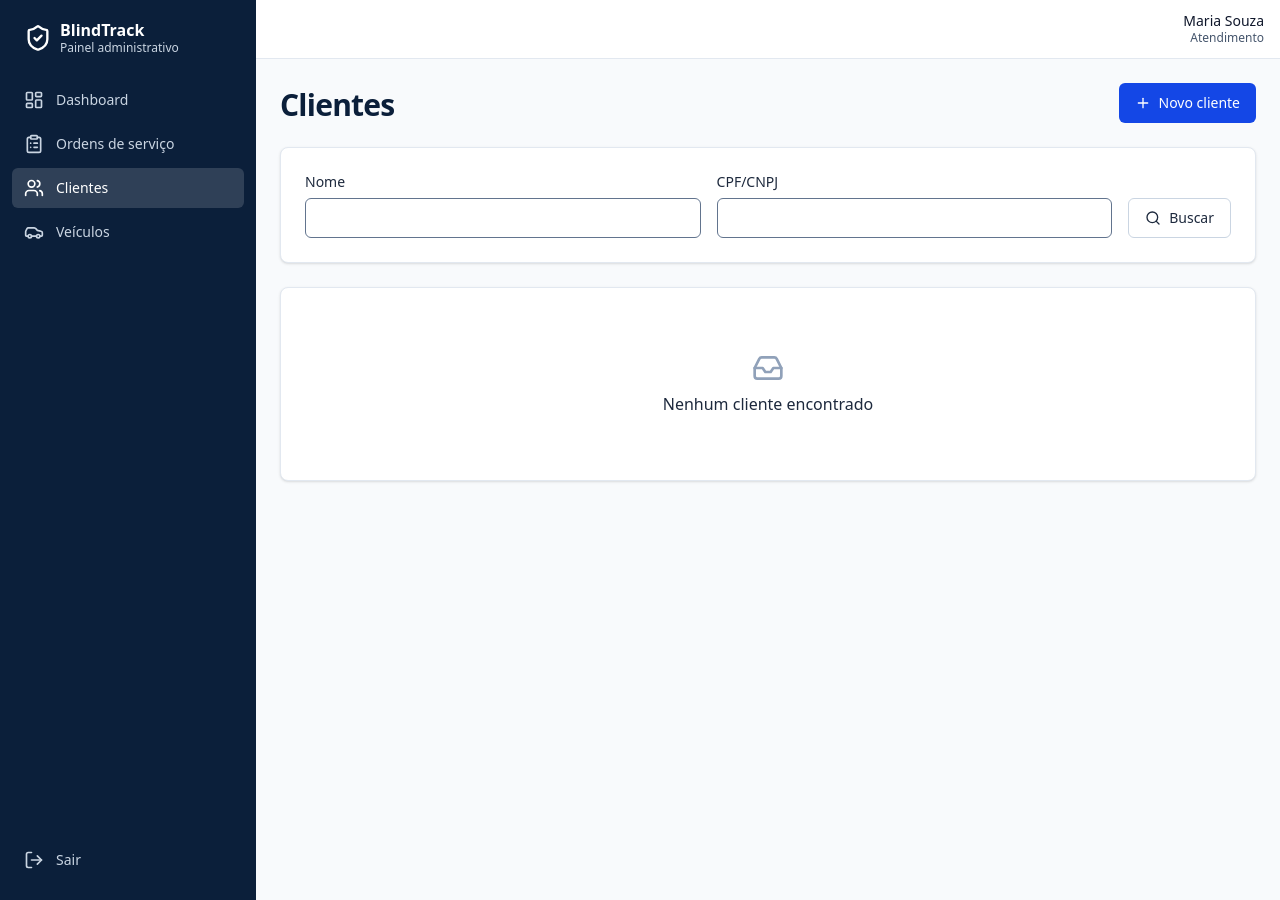
Clientes › CPF duplicado (409 da API) aparece no formulário
The image size is (1280, 900).
Click the button "Novo cliente" at (1187, 102), box [1118,82,1256,122]
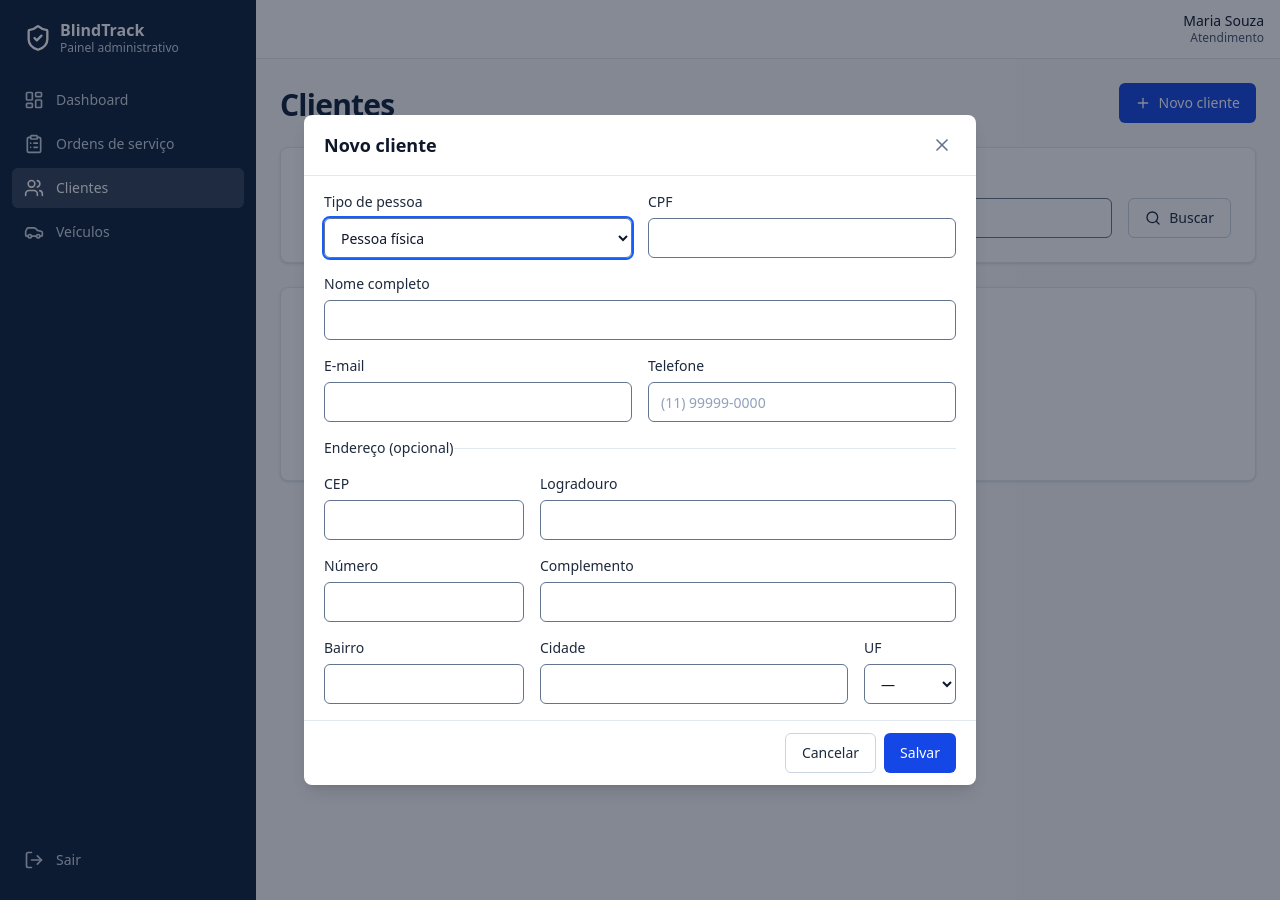
Type "52998224725" into the field labelled "CPF" at (802, 238), box [648,218,956,258]
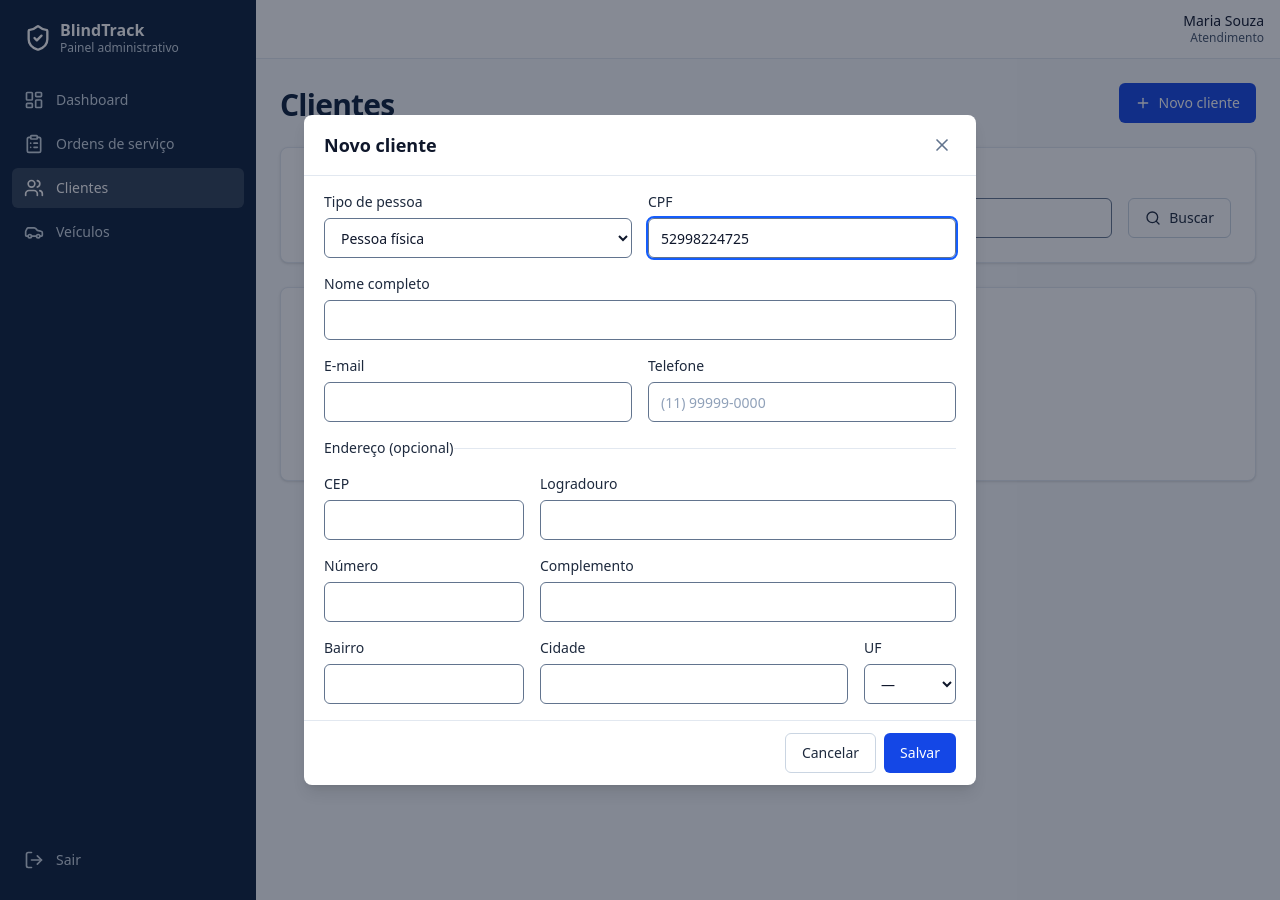
Type "Maria Souza" into the field labelled "Nome completo" at (640, 320), box [324,300,956,340]
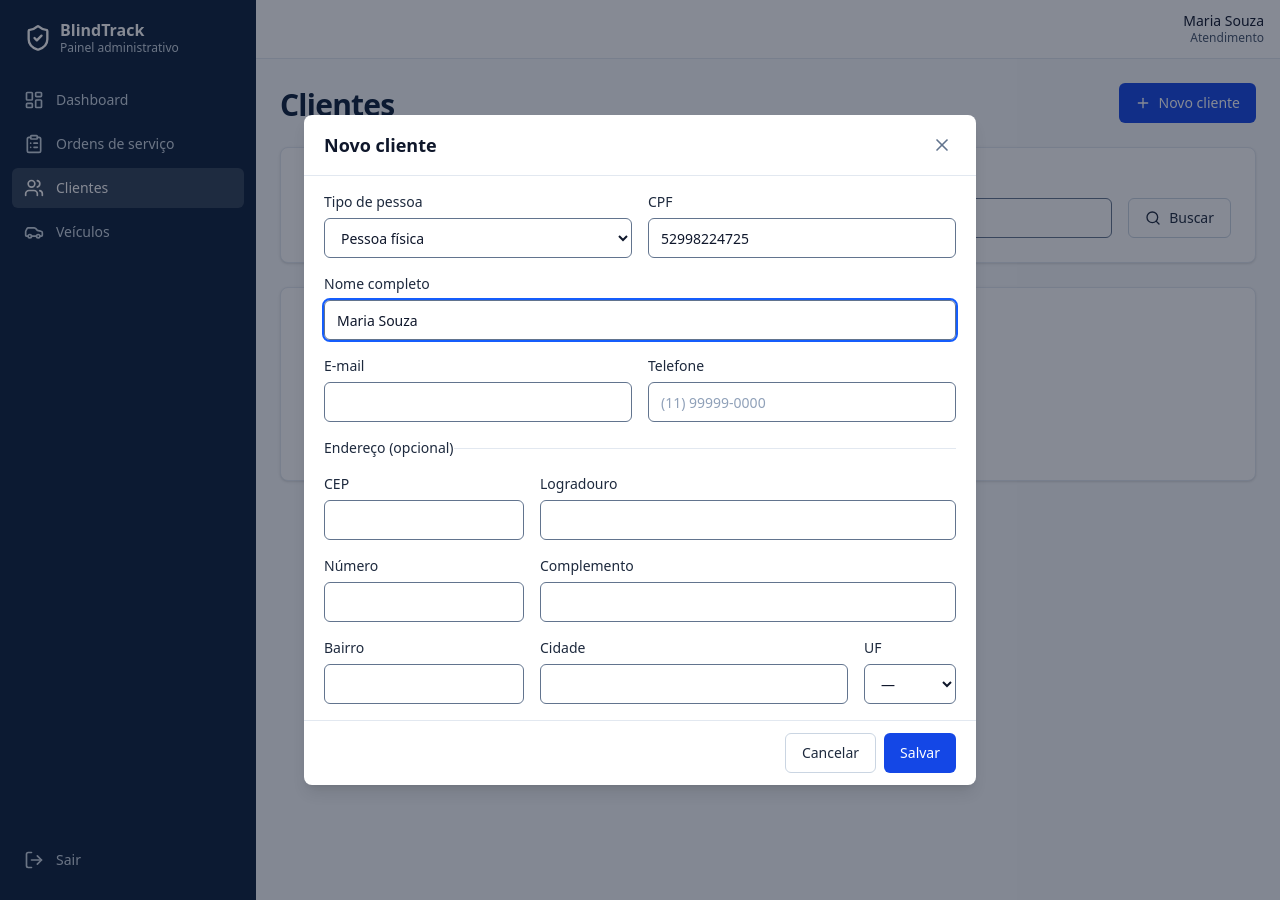
Type "maria@exemplo.example" into the field labelled "E-mail" at (478, 402), box [324,382,632,422]
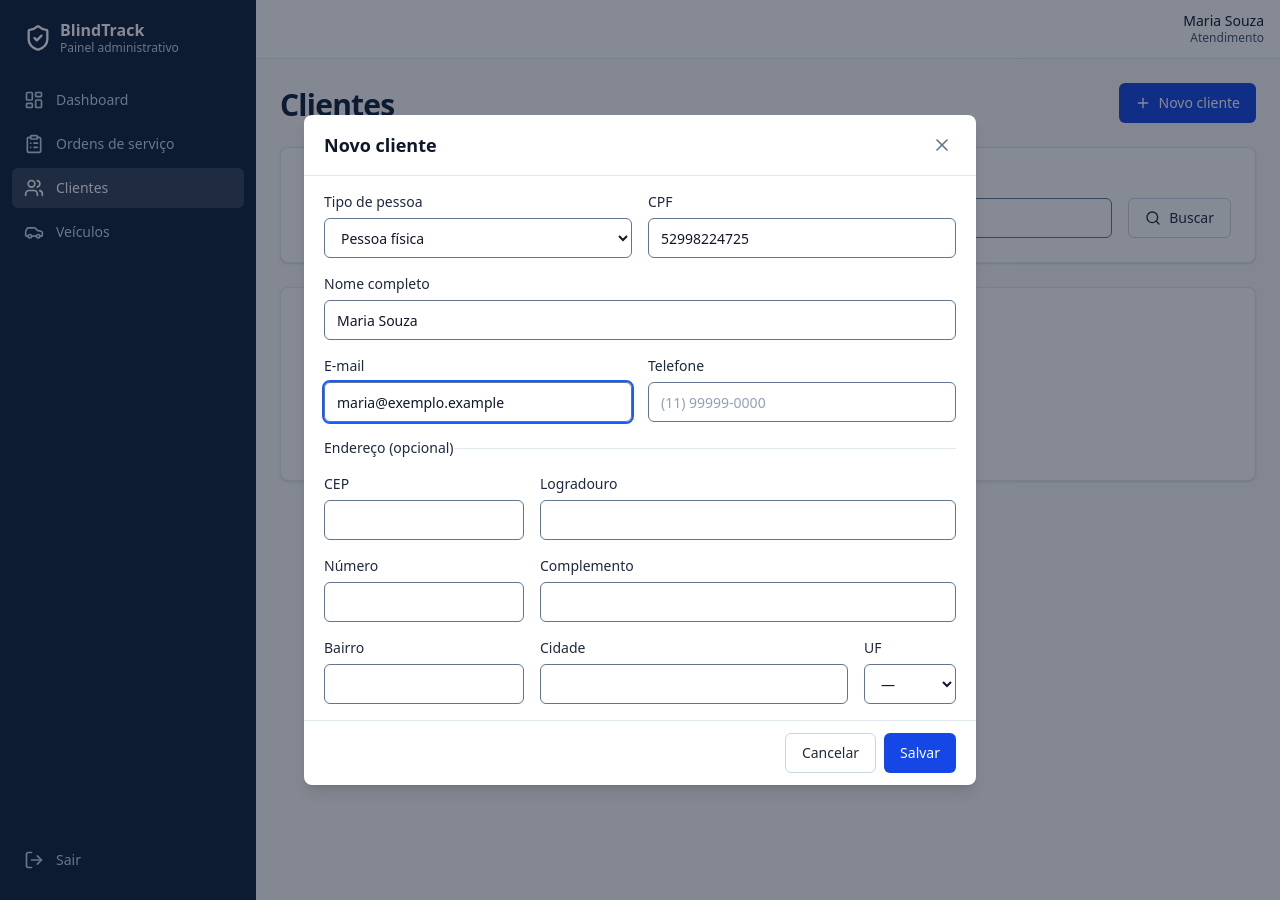
Type "11999990000" into the field labelled "Telefone" at (802, 402), box [648,382,956,422]
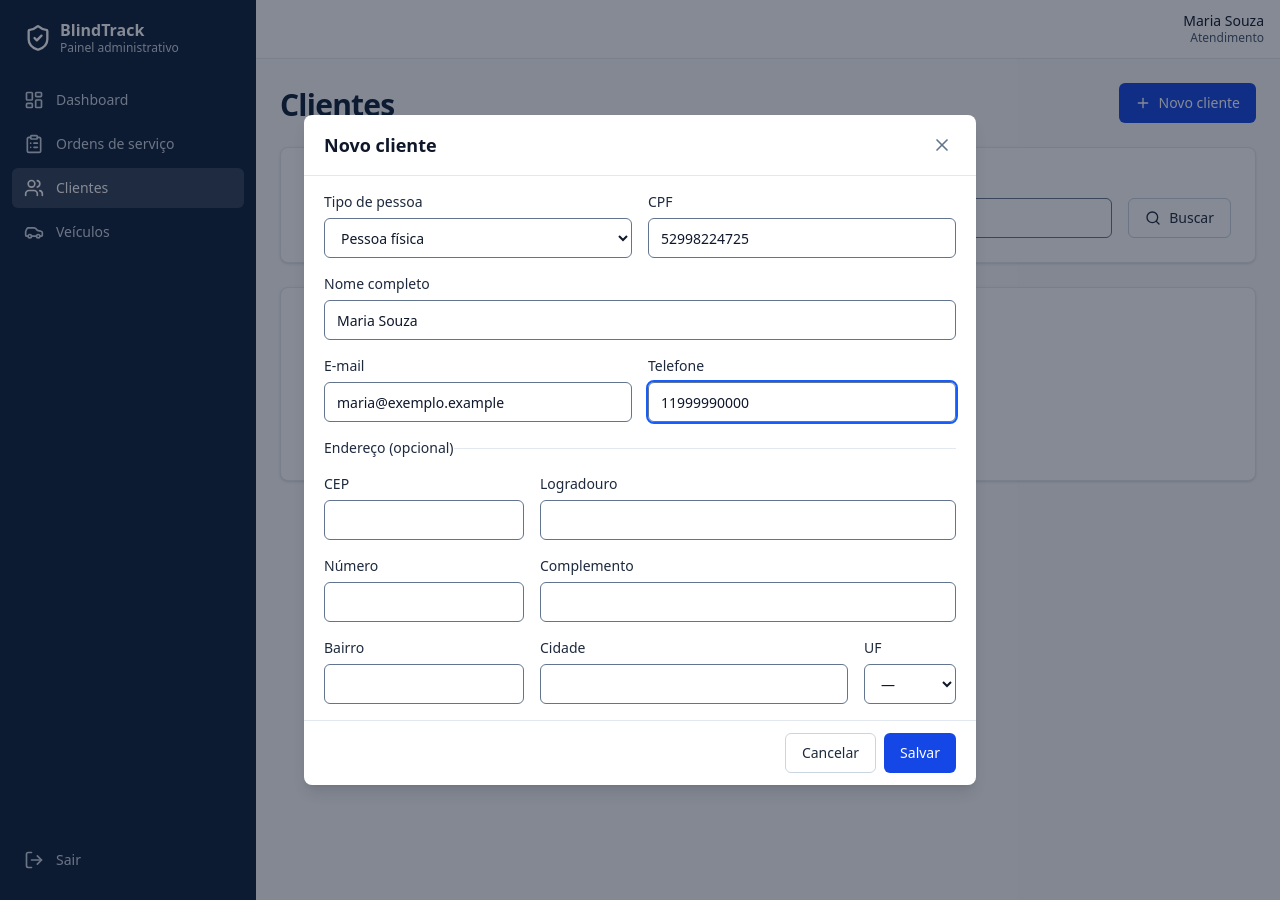
Click the button "Salvar" at (920, 753), box [884,733,956,773]
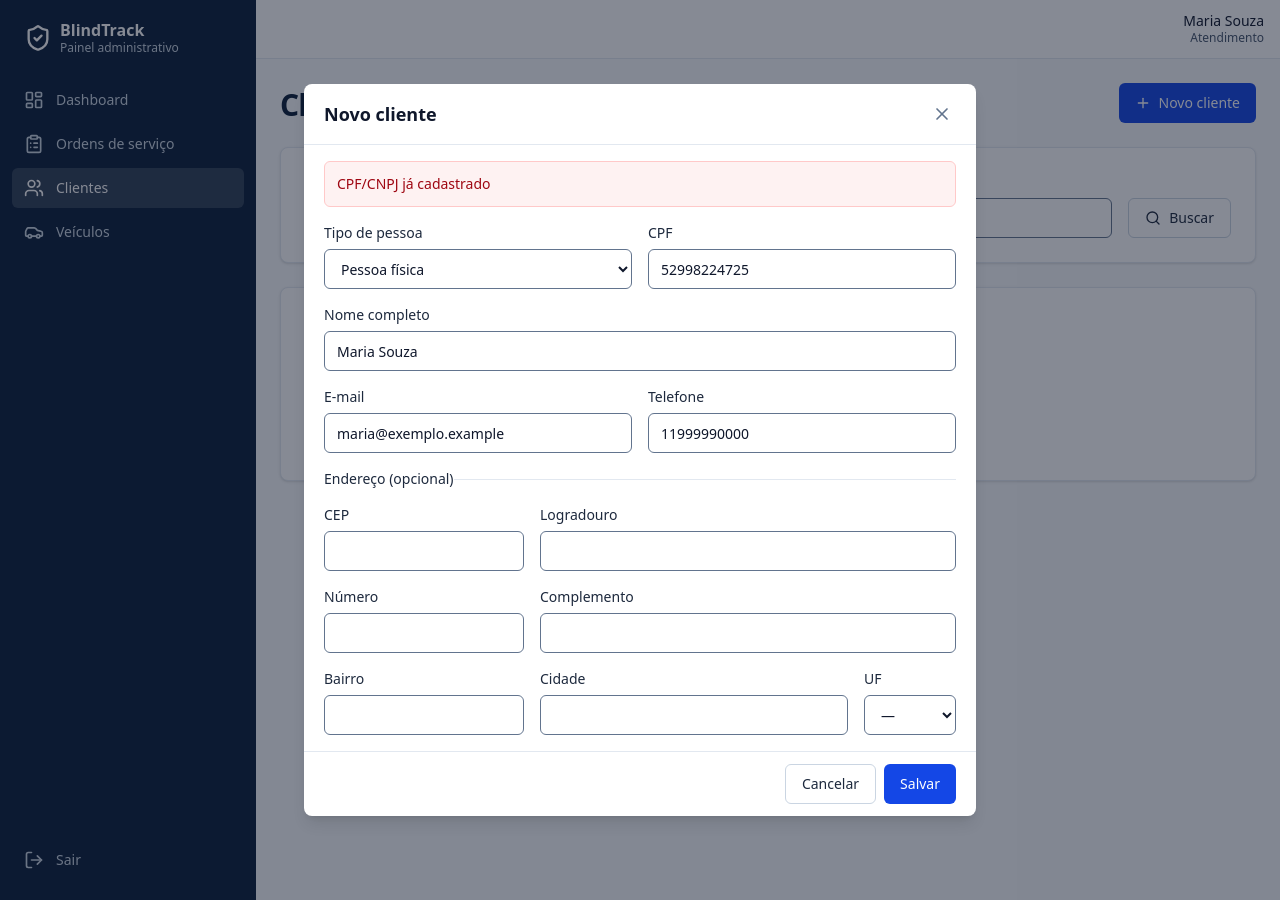
Check: the message reads "CPF/CNPJ já cadastrado", box [337,174,491,193]
